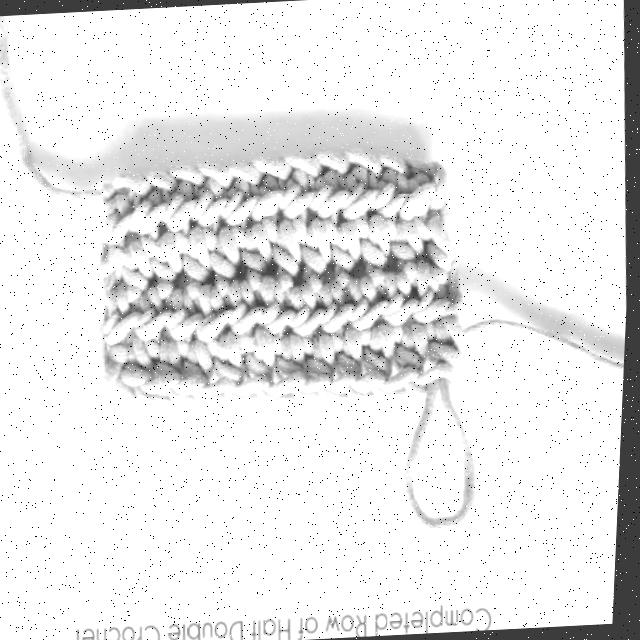ch: (279, 154, 324, 178), (222, 162, 266, 185), (115, 170, 155, 195), (196, 163, 235, 188), (349, 150, 382, 178), (164, 165, 209, 185), (250, 159, 293, 179), (144, 171, 179, 192), (375, 153, 410, 174), (313, 152, 351, 171), (405, 158, 437, 178)
hdc: (404, 315, 470, 397), (132, 329, 186, 406), (377, 323, 432, 398), (224, 327, 278, 403), (349, 323, 397, 400), (197, 330, 246, 403), (413, 261, 456, 339), (167, 337, 216, 403), (265, 331, 309, 403), (297, 328, 341, 400), (105, 283, 144, 362), (108, 334, 156, 398), (350, 273, 392, 346), (194, 177, 233, 253), (324, 327, 364, 400), (383, 270, 422, 344), (138, 288, 179, 358), (313, 172, 352, 244), (164, 181, 202, 254), (281, 168, 318, 242), (263, 276, 297, 356), (372, 169, 409, 242), (232, 280, 268, 353), (135, 187, 172, 258), (290, 284, 327, 355), (198, 285, 235, 355), (224, 178, 260, 248), (346, 166, 381, 237), (167, 290, 205, 355), (323, 280, 358, 350), (402, 171, 438, 239), (103, 190, 136, 263), (254, 175, 287, 242), (154, 231, 186, 300), (242, 224, 274, 293), (185, 226, 212, 306), (212, 225, 240, 302), (364, 216, 392, 293), (306, 220, 333, 297), (394, 219, 424, 286), (126, 240, 156, 304), (277, 219, 303, 291), (335, 223, 363, 288), (430, 221, 455, 287)
